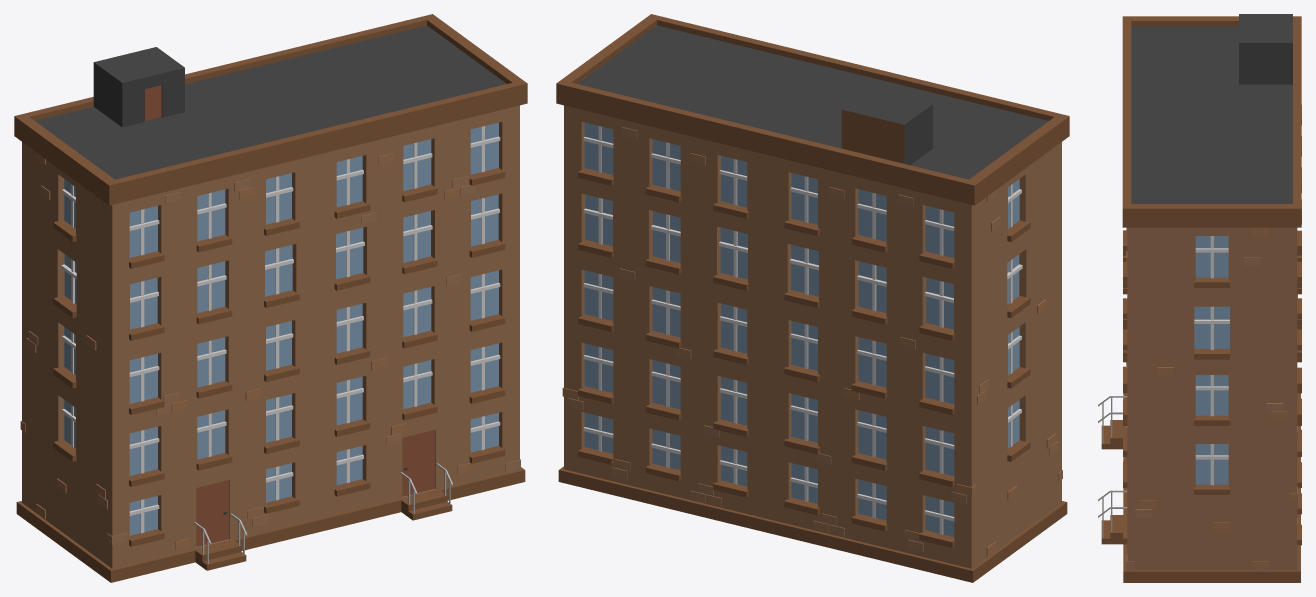
Rendered from Multistory_03.glb.
The picture shows the model from 3 angles, left to right: view 1: azimuth 30°, elevation 25°; view 2: azimuth 150°, elevation 25°; view 3: azimuth 270°, elevation 25°; orthographic projection. The views are drawn at different scales.
Visible parts, largest first — view 1: House_03; view 2: House_03; view 3: House_03.
Part boxes in pixels (box(x1,y1,x2,y2)): House_03: box(14, 14, 527, 582); House_03: box(556, 14, 1069, 582); House_03: box(1098, 14, 1301, 582).
Size of the model in its own units: 14.07 by 14.04 by 6.3.
1 material, 1 textured.
